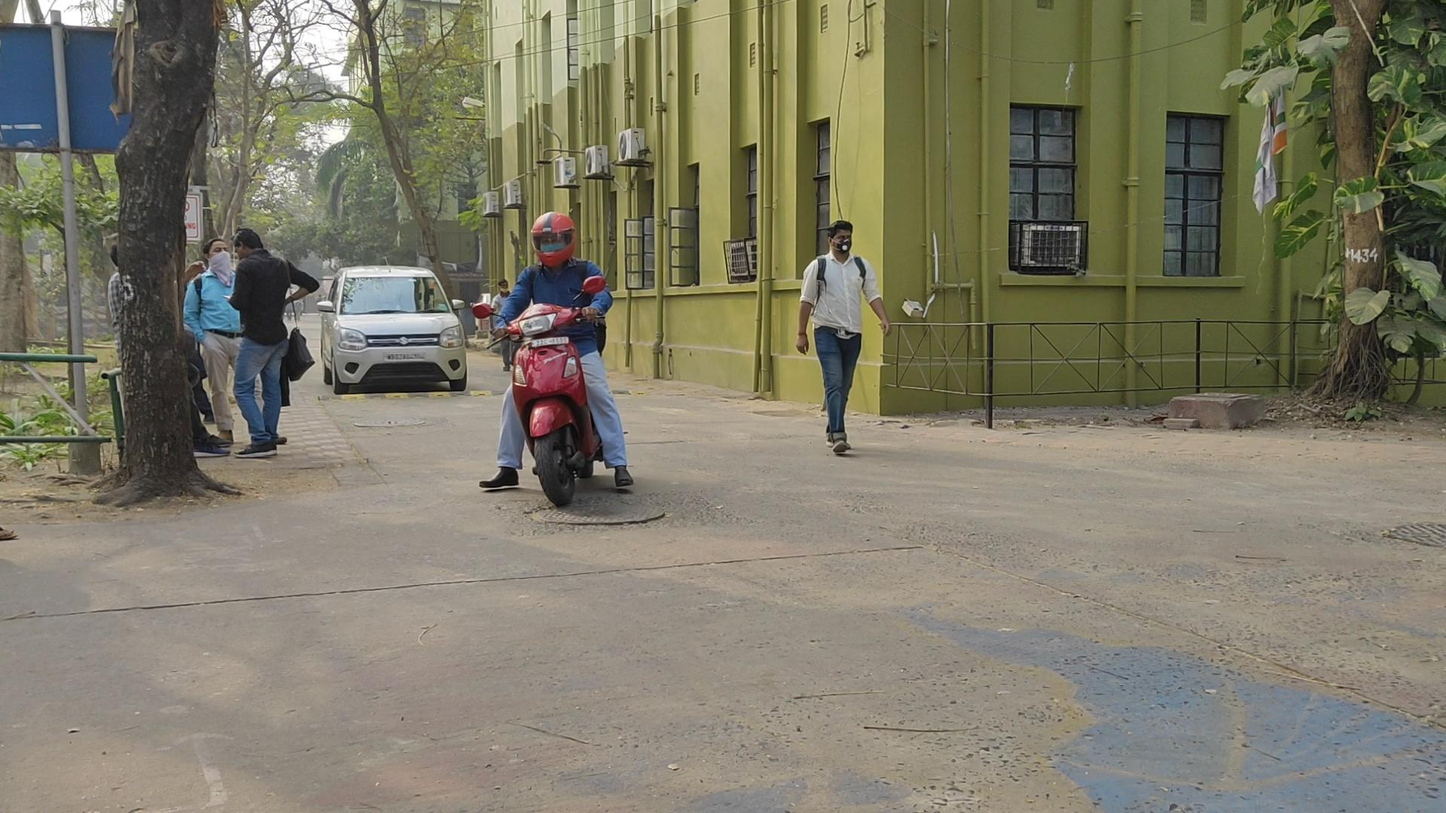bike: (484, 213, 633, 504)
car: (319, 266, 468, 396)
